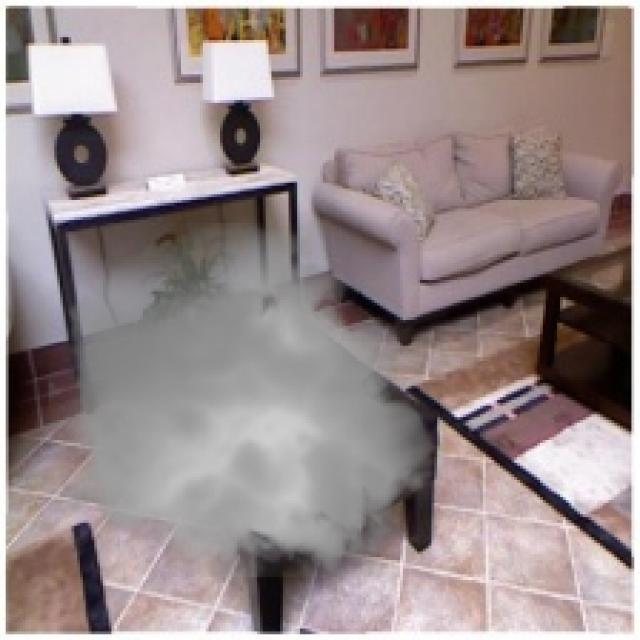smoke: (49, 212, 448, 594)
